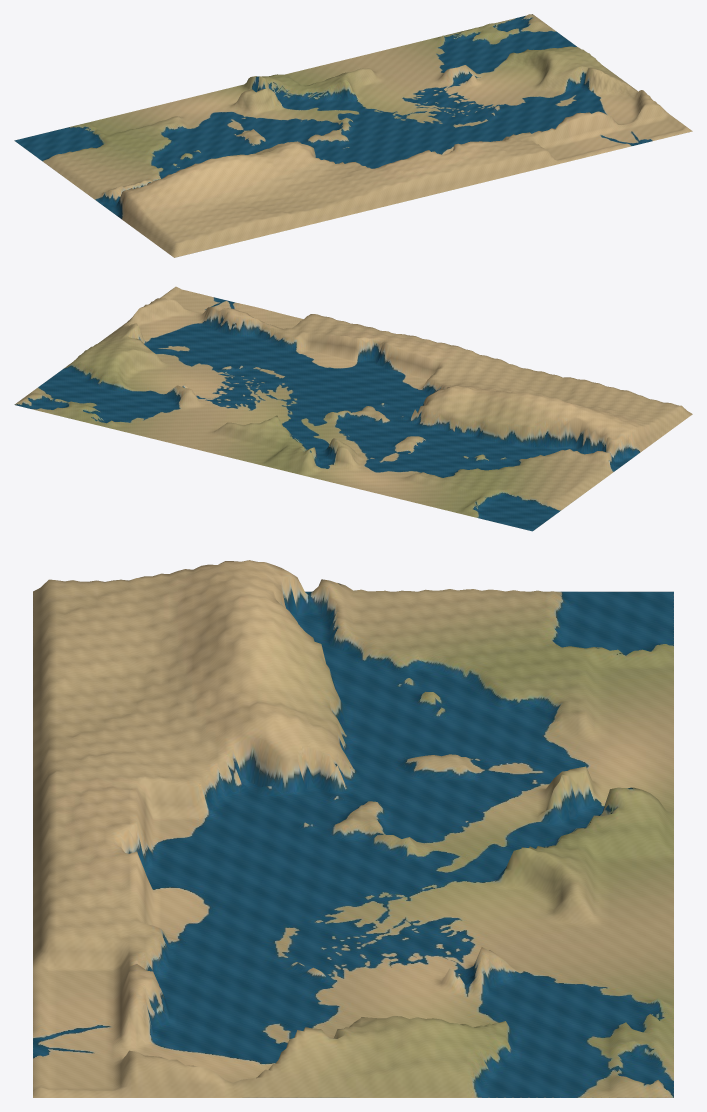
Rendered from mediterranean.glb.
3 renders of one model, top to bottom at view 1: azimuth 30°, elevation 25°; view 2: azimuth 150°, elevation 25°; view 3: azimuth 270°, elevation 25°, orthographic. The views are drawn at different scales.
Parts seen in each view (by area): view 1: Mediterranean_Sculpted_Map; view 2: Mediterranean_Sculpted_Map; view 3: Mediterranean_Sculpted_Map.
Part boxes in pixels (<box>): Mediterranean_Sculpted_Map: <box>14,14,692,257</box>; Mediterranean_Sculpted_Map: <box>14,286,692,531</box>; Mediterranean_Sculpted_Map: <box>33,560,673,1097</box>.
Bounding box in the file's own units: 4.52 × 0.2747 × 2.42.
Materials: 1 (1 with a texture image).
